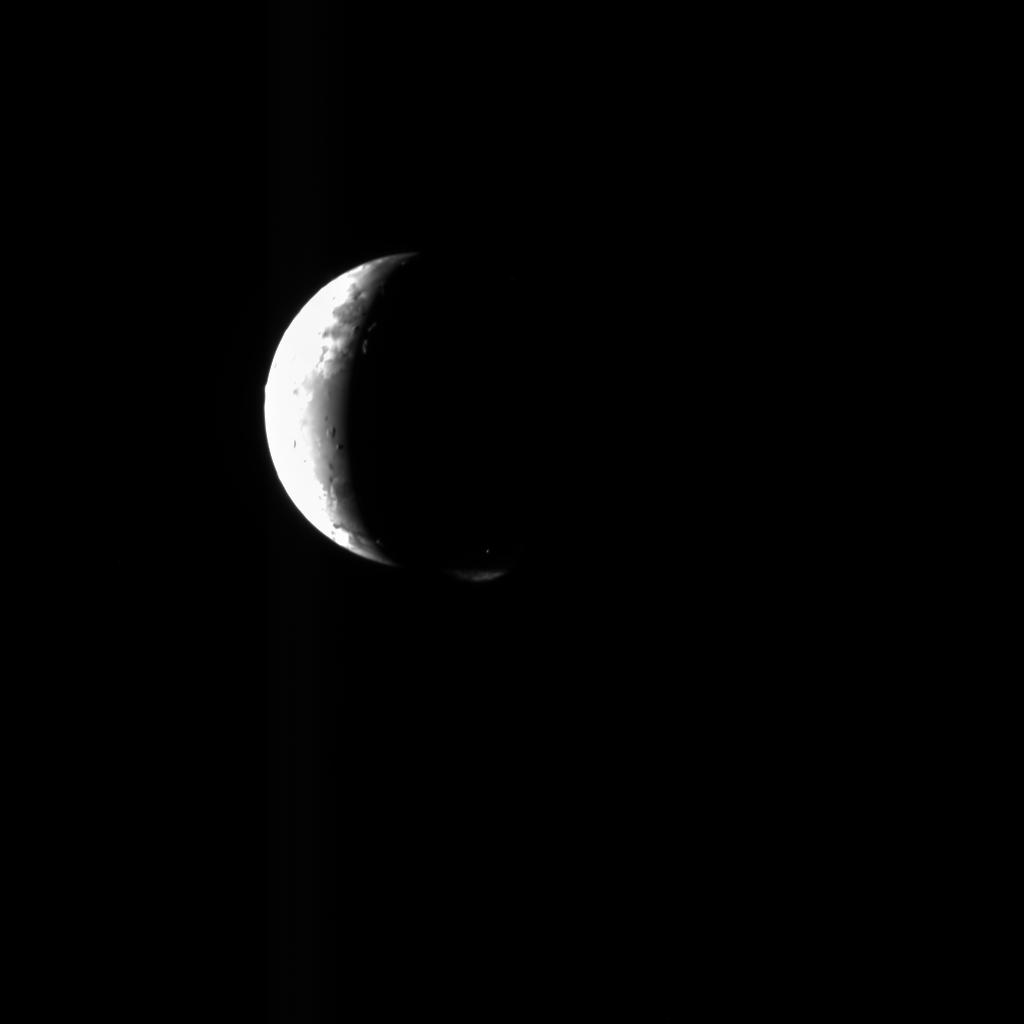plumes: (452, 564, 510, 582)
